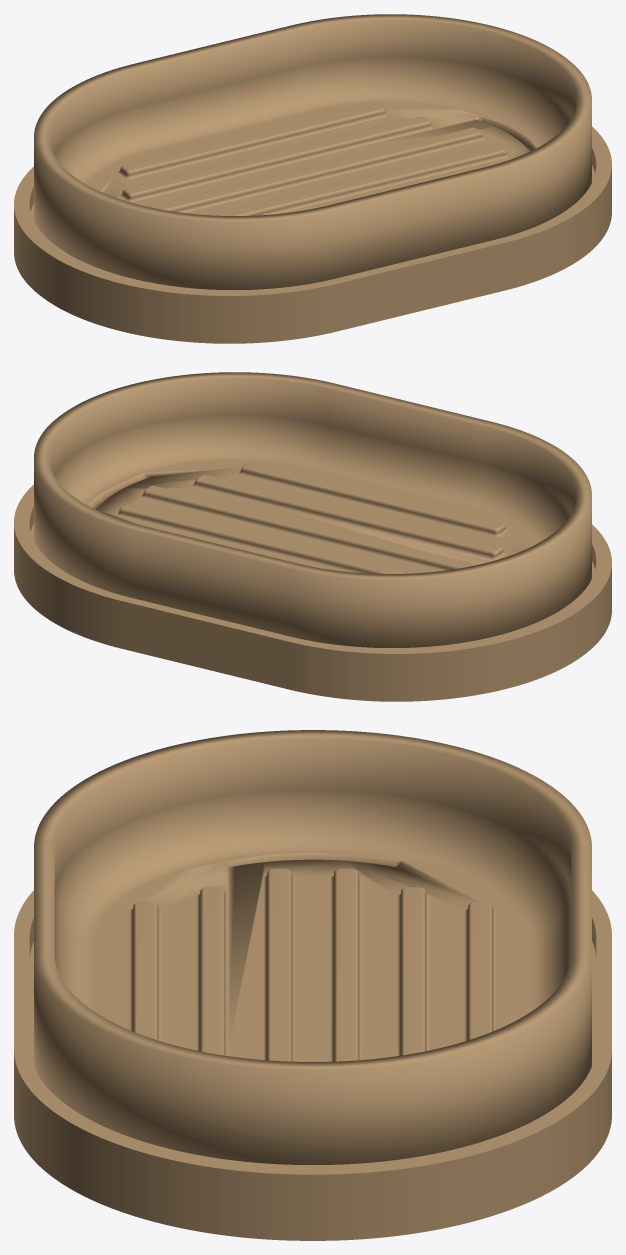
The model's file is SoapCaseNew.glb.
3 renders of one model, top to bottom at view 1: azimuth 30°, elevation 25°; view 2: azimuth 150°, elevation 25°; view 3: azimuth 270°, elevation 25°, orthographic. The views are drawn at different scales.
Visible parts, largest first — view 1: Top Tray, Base Tray; view 2: Top Tray, Base Tray; view 3: Top Tray, Base Tray.
Boxes of the visible parts, <box> form: Top Tray: <box>34,14,591,289</box>; Base Tray: <box>14,126,611,343</box>; Top Tray: <box>34,372,591,647</box>; Base Tray: <box>14,484,611,701</box>; Top Tray: <box>34,730,591,1164</box>; Base Tray: <box>14,890,611,1240</box>.
Size of the model in its own units: 139 by 28.12 by 96.45.
